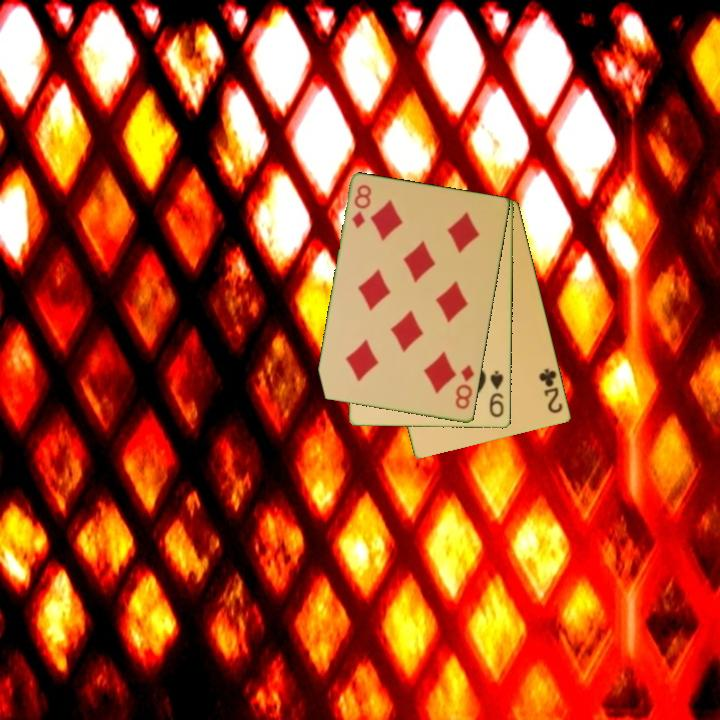2c: (536, 365, 566, 416)
8d: (348, 182, 375, 231), (452, 362, 477, 413)
9s: (486, 367, 507, 420)
